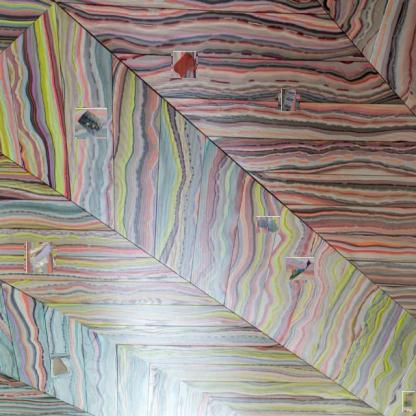dirty: (76, 108, 107, 138), (25, 243, 55, 272), (288, 256, 313, 282), (49, 355, 71, 378), (280, 91, 298, 110), (402, 391, 415, 412)
liquid: (172, 52, 197, 78), (256, 216, 280, 233)
